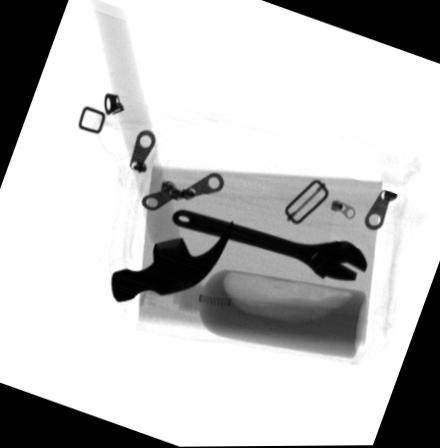Hammer: (92, 0, 233, 303)
Wrench: (171, 207, 369, 282)
